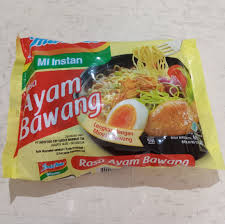Indomie Ayam Bawang (69g): (8, 36, 211, 187)
